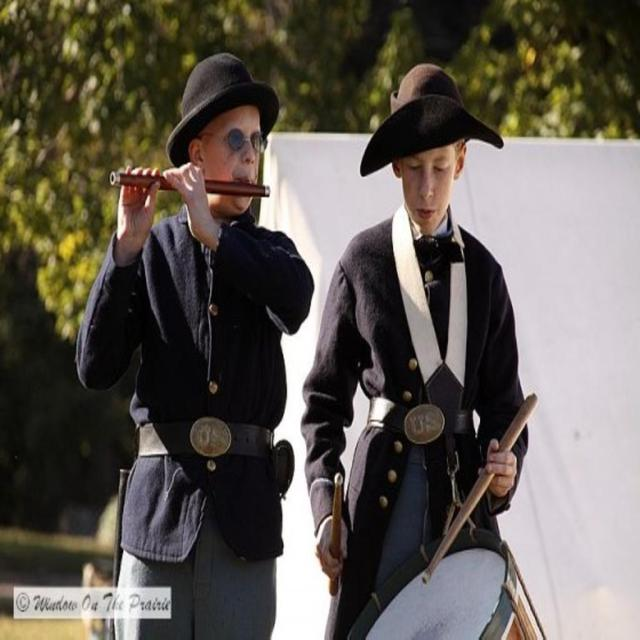Face: (200, 110, 263, 229), (396, 137, 470, 238)
